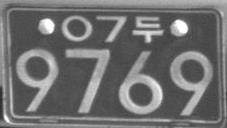0: (60, 14, 93, 42)
6: (118, 49, 163, 116)
7: (64, 47, 111, 113), (95, 14, 126, 42)
9: (169, 49, 213, 115), (15, 47, 59, 112)
두: (132, 15, 163, 43)
